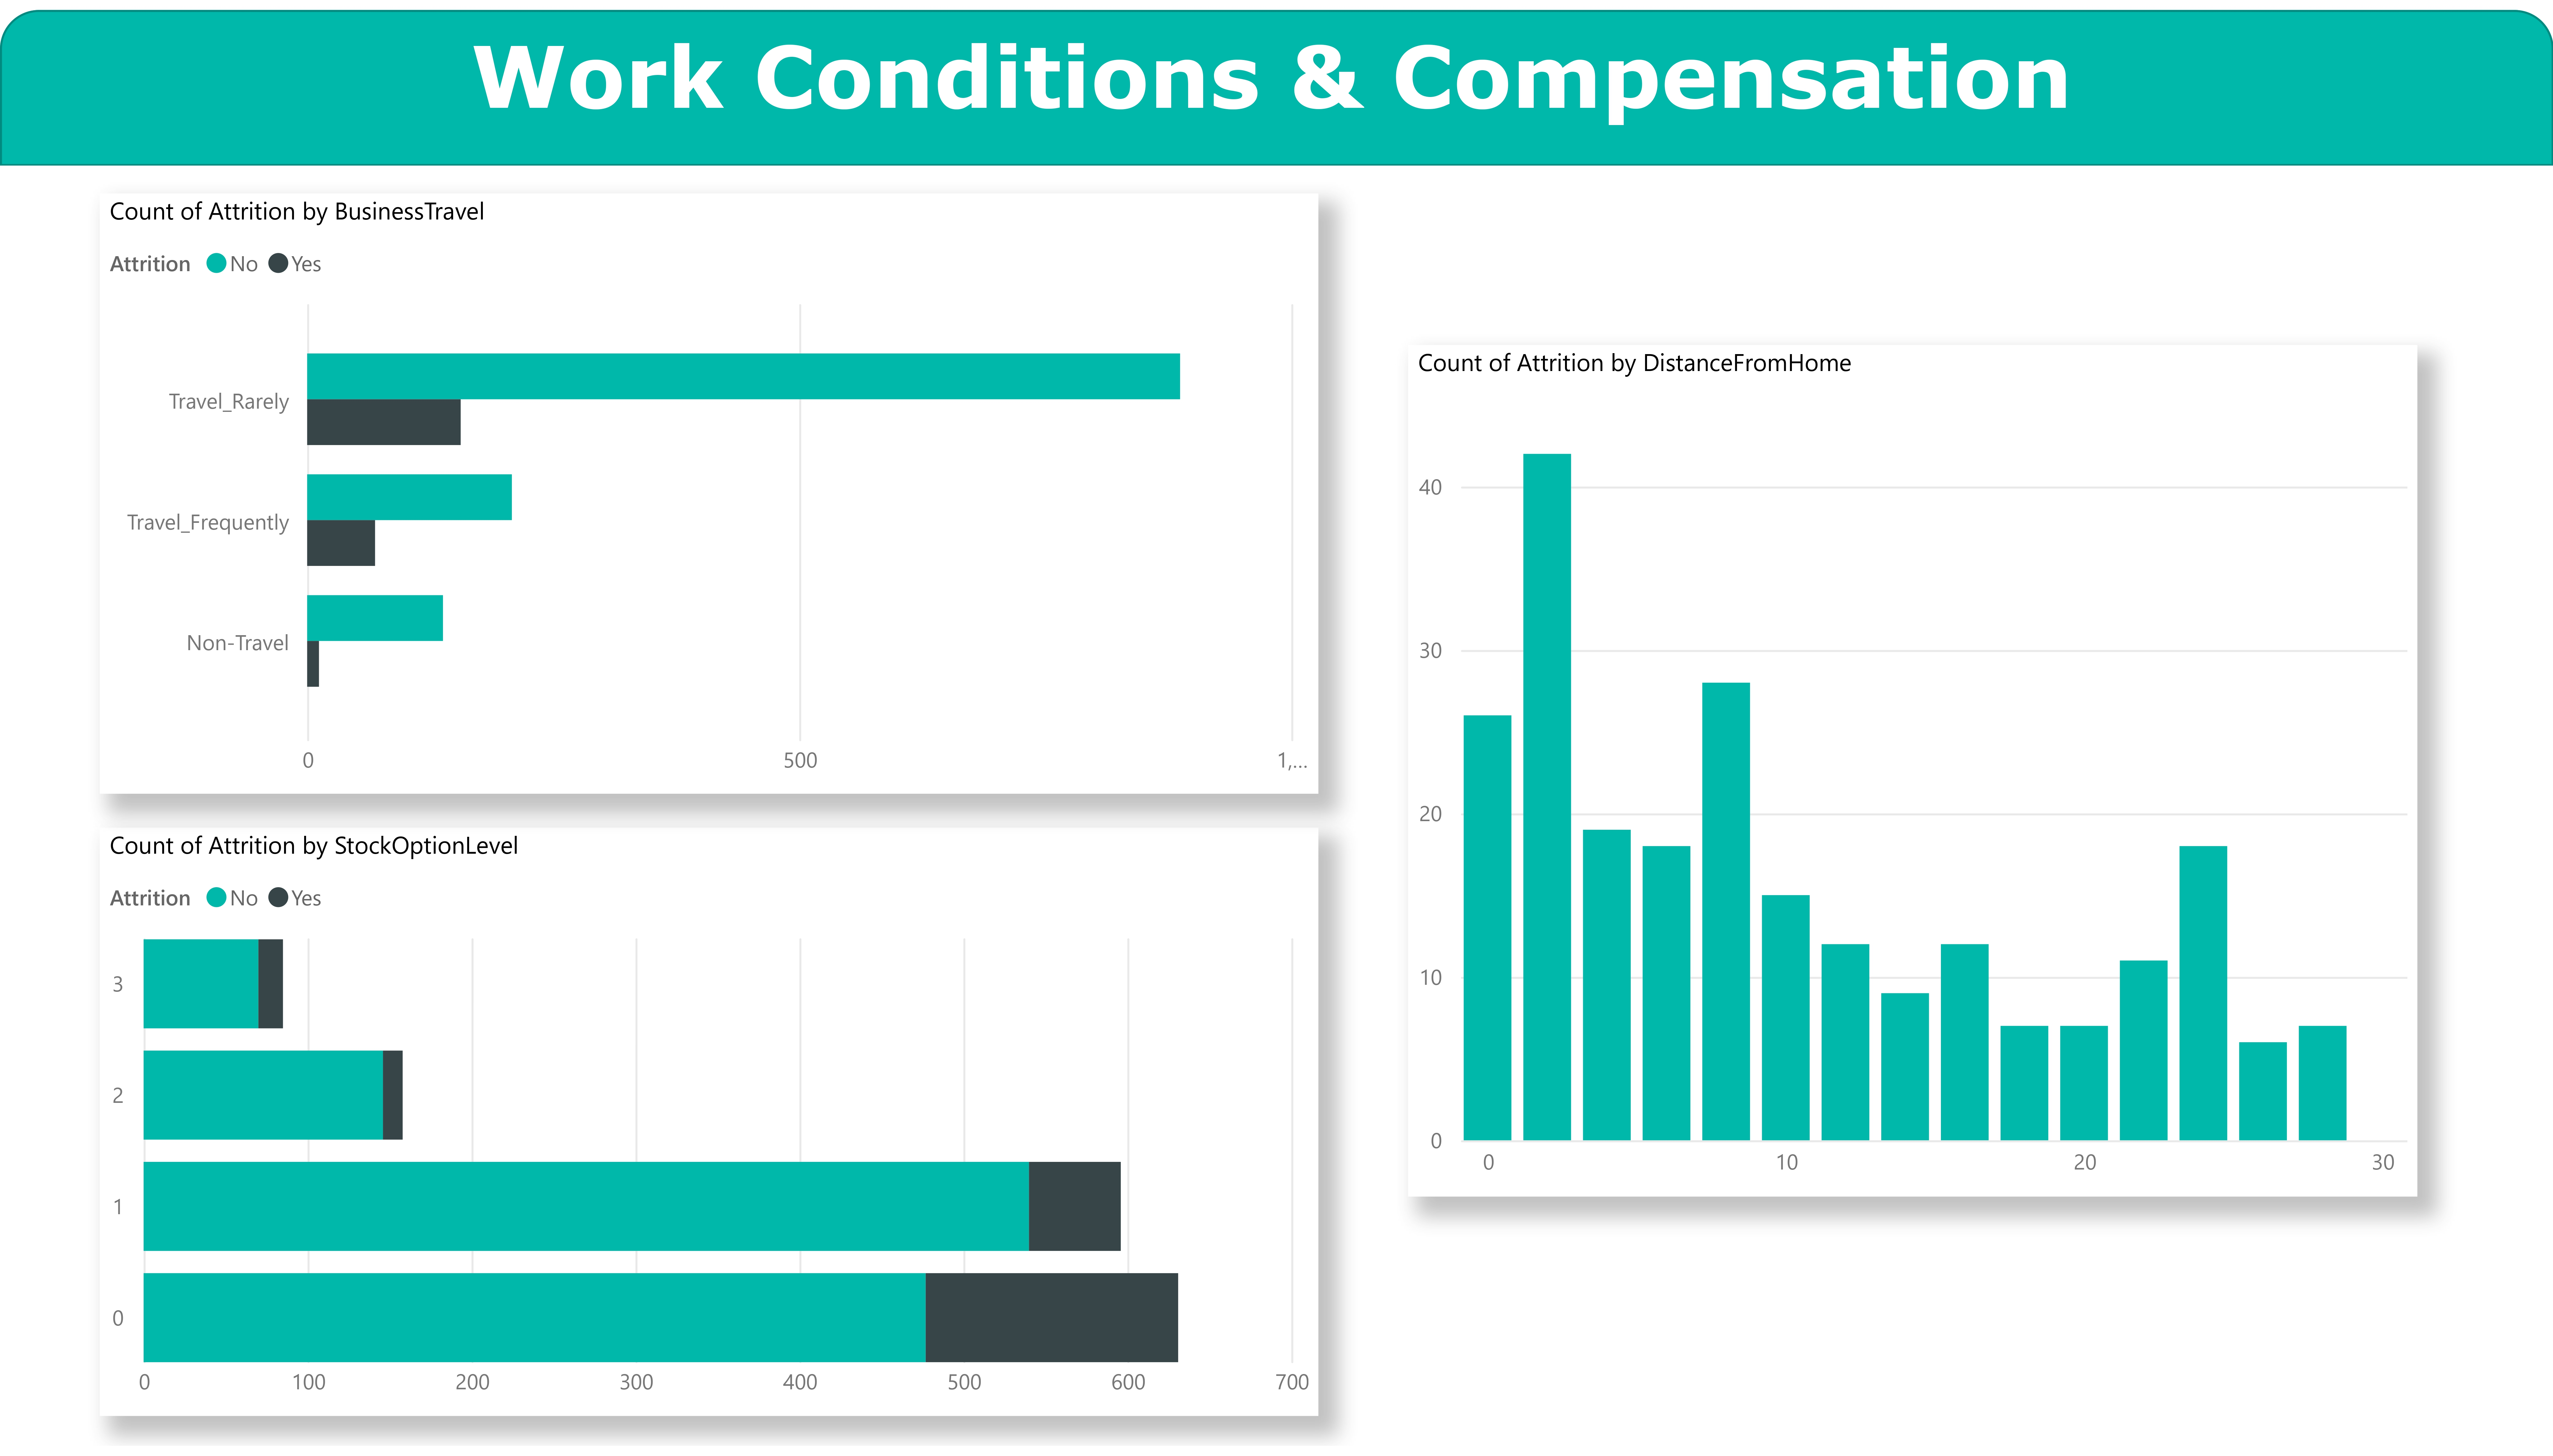

The dashboard page shown, as its layout file describes it:
{"tool":"powerbi","page":{"name":"Page 3","canvas":[1280,720],"ordinal":2},"visuals":[{"type":"columnChart","fields":{"Category":["employee_attrition.DistanceFromHome (bins)"],"Y":["CountNonNull(employee_attrition.Attrition)"]},"box":[0,245.8,446.3,360.7],"z":0},{"type":"clusteredColumnChart","fields":{"Category":["employee_attrition.BusinessTravel"],"Y":["CountNonNull(employee_attrition.Attrition)"],"Series":["employee_attrition.Attrition"]},"box":[415.8,260.5,446.3,331.4],"z":1000},{"type":"clusteredColumnChart","fields":{"Category":["employee_attrition.StockOptionLevel"],"Y":["CountNonNull(employee_attrition.Attrition)"],"Series":["employee_attrition.Attrition"]},"box":[832.7,231.1,447.6,360.7],"z":2000}]}

Visuals, with their boxes in screenshot pixels (x1, y1, x2, y2), scaled from the page's 1280x720 canvas onto the 2553x1456 screenshot:
columnChart - employee_attrition.DistanceFromHome (bins) x CountNonNull(employee_attrition.Attrition): l=0, t=497, r=890, b=1227
clusteredColumnChart - employee_attrition.BusinessTravel x CountNonNull(employee_attrition.Attrition): l=829, t=527, r=1719, b=1197
clusteredColumnChart - employee_attrition.StockOptionLevel x CountNonNull(employee_attrition.Attrition): l=1661, t=467, r=2553, b=1197
